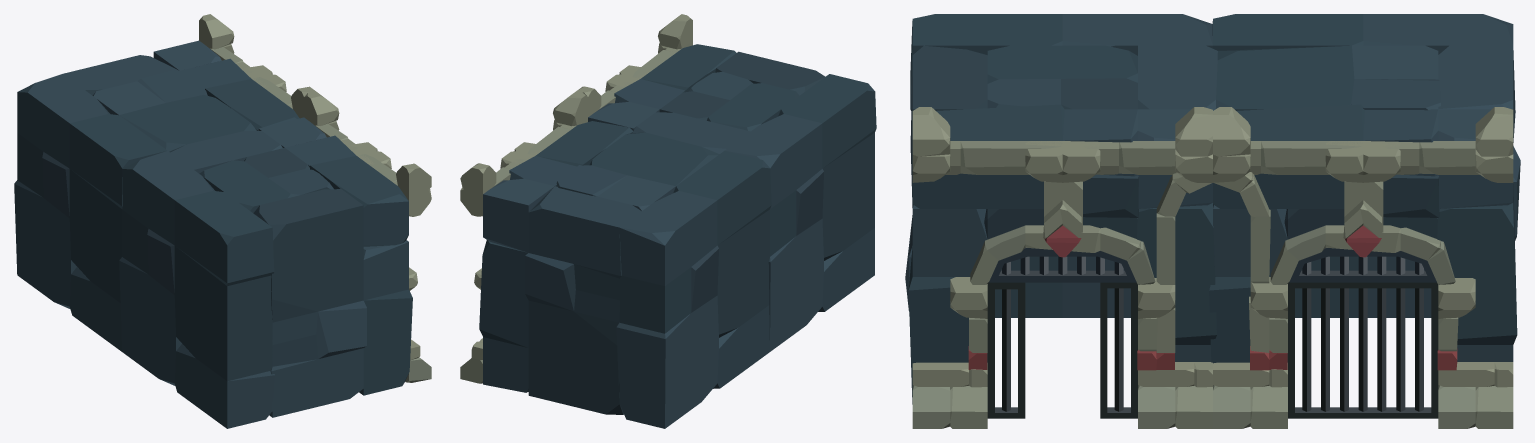
The model's file is prison_cell_double.fbx.
3 views of the same model, side by side, from view 1: azimuth 30°, elevation 25°; view 2: azimuth 150°, elevation 25°; view 3: azimuth 270°, elevation 25° (orthographic). The views are drawn at different scales.
Visible parts, largest first — view 1: prison_cell_double; view 2: prison_cell_double; view 3: prison_cell_double.
Part boxes in pixels (left/top/right/bottom): prison_cell_double: left=14, top=14, right=431, bottom=428; prison_cell_double: left=460, top=14, right=876, bottom=428; prison_cell_double: left=905, top=14, right=1520, bottom=428.
Bounding box in the file's own units: 457 × 450 × 820.
